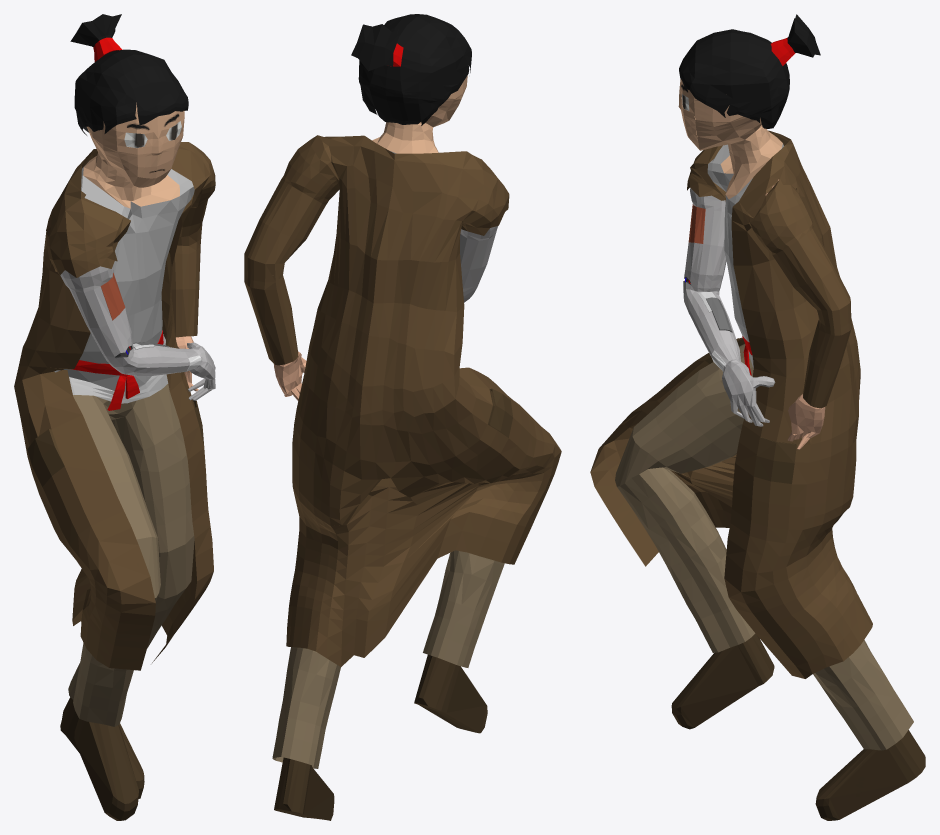
File: One_RF_000020.obj
The picture shows the model from 3 angles, left to right: view 1: azimuth 30°, elevation 25°; view 2: azimuth 150°, elevation 25°; view 3: azimuth 270°, elevation 25°; orthographic projection. The views are drawn at different scales.
Parts seen in each view (by area): view 1: Hair_Cube.004; view 2: Hair_Cube.004; view 3: Hair_Cube.004.
Boxes of the visible parts, bbox=[...] form: Hair_Cube.004: bbox=[14, 14, 215, 820]; Hair_Cube.004: bbox=[244, 14, 561, 820]; Hair_Cube.004: bbox=[590, 14, 925, 820].
Size of the model in its own units: 1.09 by 3.95 by 1.54.
